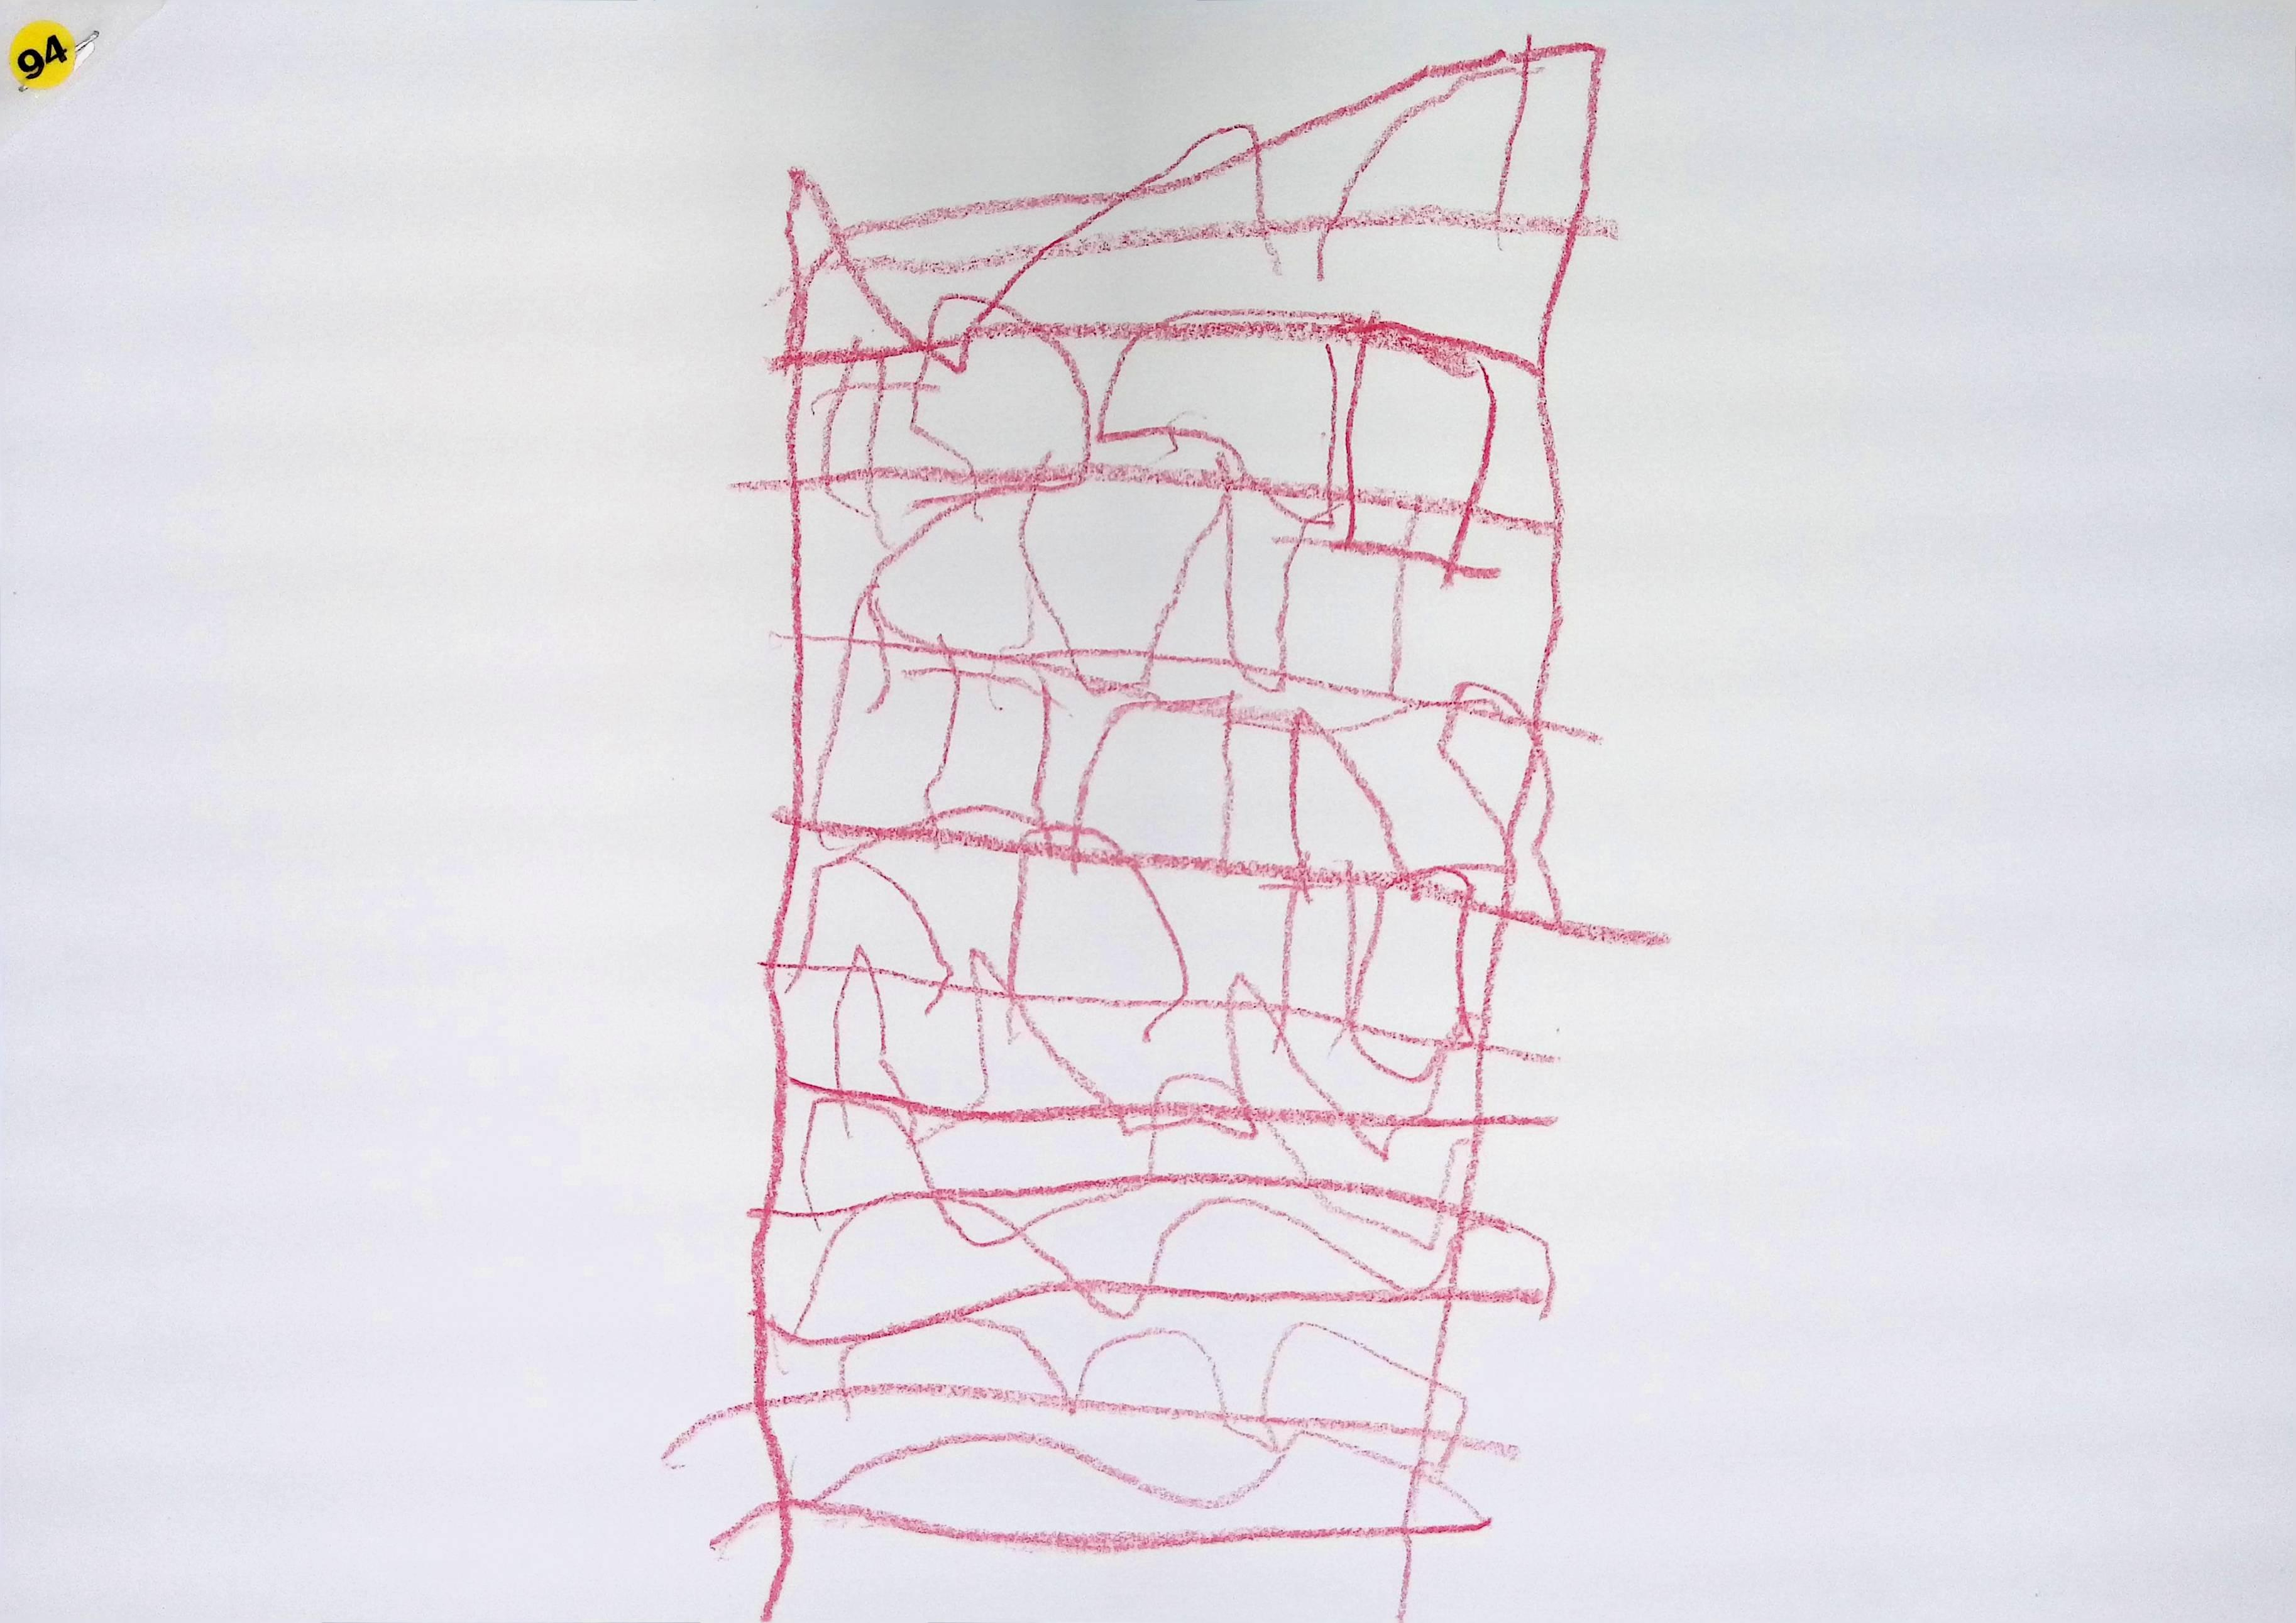house: (750, 40, 1660, 1605)
wall: (750, 40, 1658, 1605)
window: (1216, 457, 1423, 690), (1121, 281, 1342, 494), (980, 806, 1195, 1013), (1024, 469, 1221, 683), (1073, 671, 1247, 871), (1363, 306, 1483, 566), (928, 295, 1089, 480), (928, 631, 1065, 838), (1363, 857, 1483, 1068), (1284, 694, 1418, 875), (894, 490, 1033, 660), (805, 820, 947, 982), (1261, 847, 1358, 1021)
